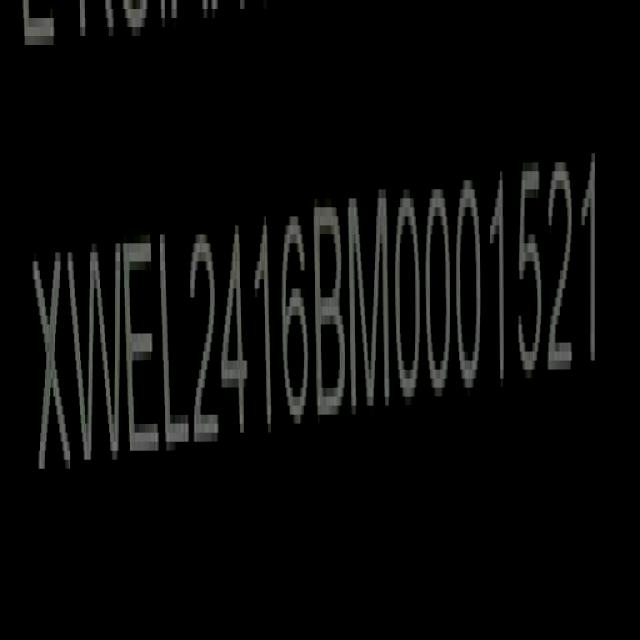0: (425, 181, 453, 403), (396, 183, 423, 410), (454, 174, 480, 396)
1: (488, 164, 507, 398), (581, 144, 599, 382), (255, 214, 273, 446)
2: (192, 232, 221, 461), (547, 154, 574, 388)
4: (223, 229, 249, 452)
5: (518, 152, 544, 391)
6: (283, 208, 312, 435)
B: (314, 199, 346, 430)
E: (127, 237, 159, 468)
L: (161, 236, 188, 464)
M: (348, 193, 389, 424)
W: (77, 236, 124, 480)
X: (37, 249, 69, 489)
